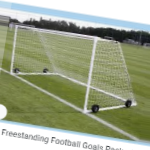goals: (7, 23, 141, 117)
